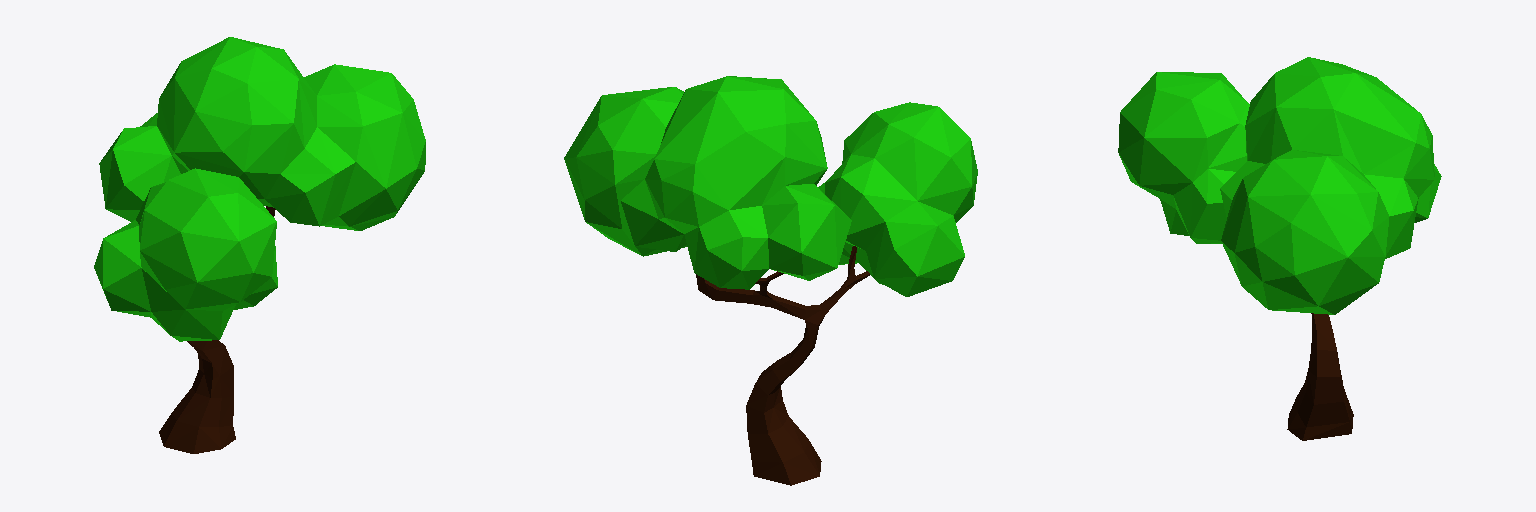
The model's file is big-tree-light.obj.
3 views of the same model, side by side, from view 1: azimuth 30°, elevation 25°; view 2: azimuth 150°, elevation 25°; view 3: azimuth 270°, elevation 25° (orthographic).
Parts seen in each view (by area): view 1: LowPoly_Tree_07_lowpoly_tree_04_Plane.012; view 2: LowPoly_Tree_07_lowpoly_tree_04_Plane.012; view 3: LowPoly_Tree_07_lowpoly_tree_04_Plane.012.
Part boxes in pixels (x1,y1,x2,y2): LowPoly_Tree_07_lowpoly_tree_04_Plane.012: (94,37,425,453); LowPoly_Tree_07_lowpoly_tree_04_Plane.012: (564,76,977,485); LowPoly_Tree_07_lowpoly_tree_04_Plane.012: (1118,57,1441,440).
Size of the model in its own units: 4.16 by 4.3 by 3.33.